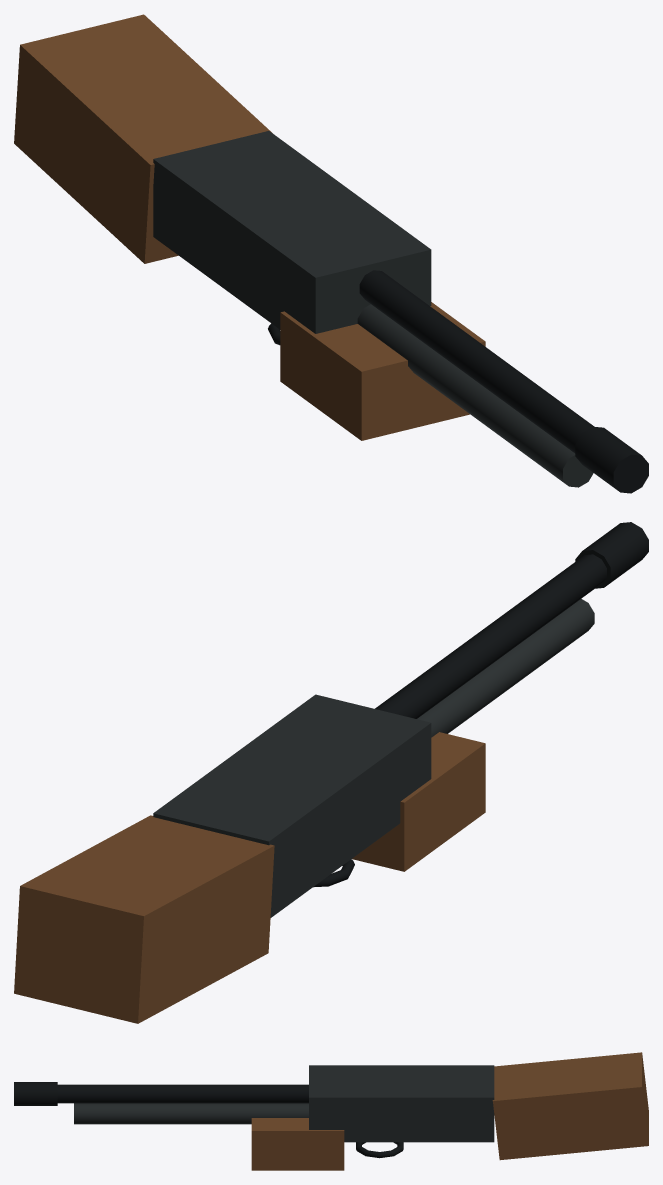
The model's file is ithaca37-shotgun.glb.
The picture shows the model from 3 angles, top to bottom: view 1: azimuth 30°, elevation 25°; view 2: azimuth 150°, elevation 25°; view 3: azimuth 270°, elevation 25°; orthographic projection. The views are drawn at different scales.
Visible parts, largest first — view 1: ithacaReceiver, ithacaStock, pumpGrip, ithacaBarrel, shotgunTube, ithacaMuzzle; view 2: ithacaStock, ithacaReceiver, pumpGrip, ithacaBarrel, shotgunTube, ithacaMuzzle; view 3: ithacaStock, ithacaReceiver, ithacaBarrel, shotgunTube, pumpGrip, ithacaMuzzle, ithacaTrigger.
Part boxes in pixels (left/top/right/bottom): ithacaReceiver: left=153, top=131, right=431, bottom=333; ithacaStock: left=14, top=14, right=272, bottom=263; pumpGrip: left=280, top=302, right=485, bottom=440; ithacaBarrel: left=359, top=270, right=593, bottom=453; shotgunTube: left=357, top=304, right=593, bottom=487; ithacaMuzzle: left=575, top=426, right=648, bottom=493; ithacaStock: left=14, top=815, right=274, bottom=1023; ithacaReceiver: left=153, top=694, right=431, bottom=917; pumpGrip: left=352, top=732, right=485, bottom=871; ithacaBarrel: left=375, top=554, right=606, bottom=718; shotgunTube: left=417, top=599, right=594, bottom=737; ithacaMuzzle: left=575, top=522, right=648, bottom=588; ithacaStock: left=492, top=1052, right=648, bottom=1160; ithacaReceiver: left=309, top=1065, right=494, bottom=1142; ithacaBarrel: left=57, top=1084, right=308, bottom=1103; shotgunTube: left=74, top=1103, right=308, bottom=1124; pumpGrip: left=251, top=1118, right=344, bottom=1170; ithacaMuzzle: left=14, top=1082, right=57, bottom=1105; ithacaTrigger: left=356, top=1142, right=403, bottom=1158.
Bounding box in the file's own units: 0.3 × 0.3381 × 2.33.
